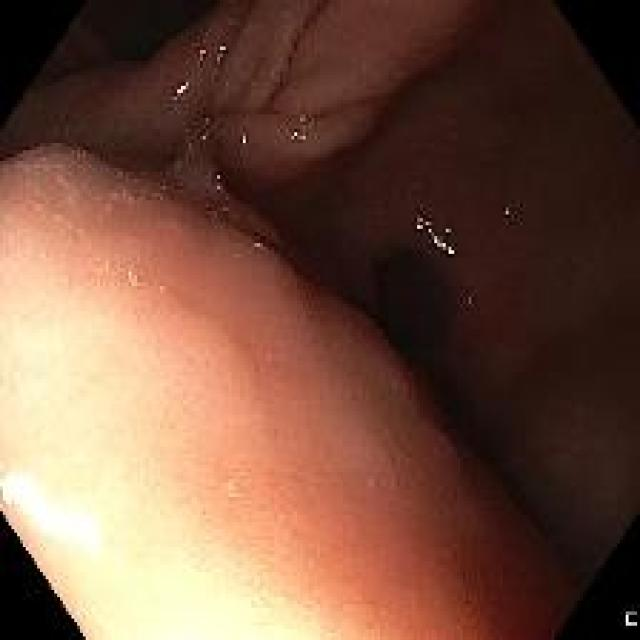bubbles: (127, 264, 152, 288), (200, 112, 213, 146), (224, 477, 244, 499), (206, 205, 229, 222)
contrast: (0, 1, 638, 178), (379, 300, 636, 636), (234, 181, 639, 299)
saturation: (103, 335, 320, 638), (1, 265, 103, 639)
specularity: (411, 214, 457, 258), (172, 75, 189, 102), (212, 38, 227, 68), (286, 128, 308, 144), (192, 46, 206, 66), (213, 168, 223, 196), (237, 132, 250, 151), (297, 111, 311, 126), (61, 126, 72, 141), (501, 204, 510, 218)
